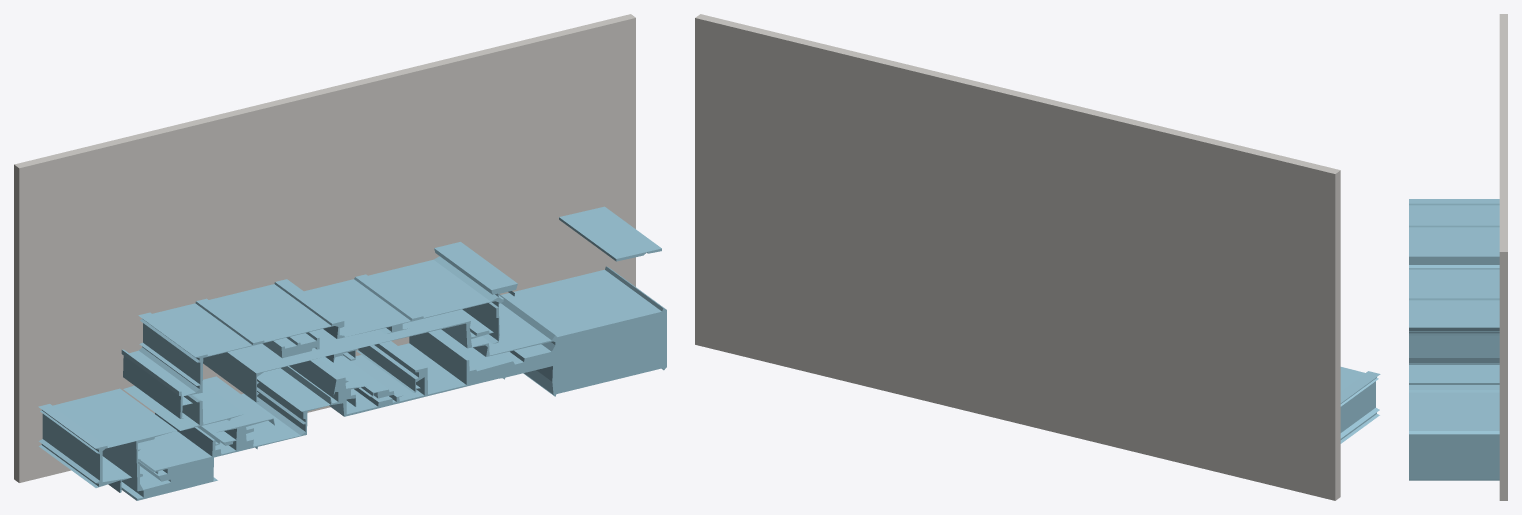
3 renders of one model, left to right at view 1: azimuth 30°, elevation 25°; view 2: azimuth 150°, elevation 25°; view 3: azimuth 270°, elevation 25°, orthographic. The views are drawn at different scales.
Visible parts, largest first — view 1: world; view 2: world; view 3: world.
Boxes of the visible parts, x1,y1,x2,y2 form: world: (14, 14, 666, 500); world: (695, 14, 1380, 500); world: (1409, 14, 1507, 500).
Bounding box in the file's own units: 10.23 × 4.99 × 1.8.
